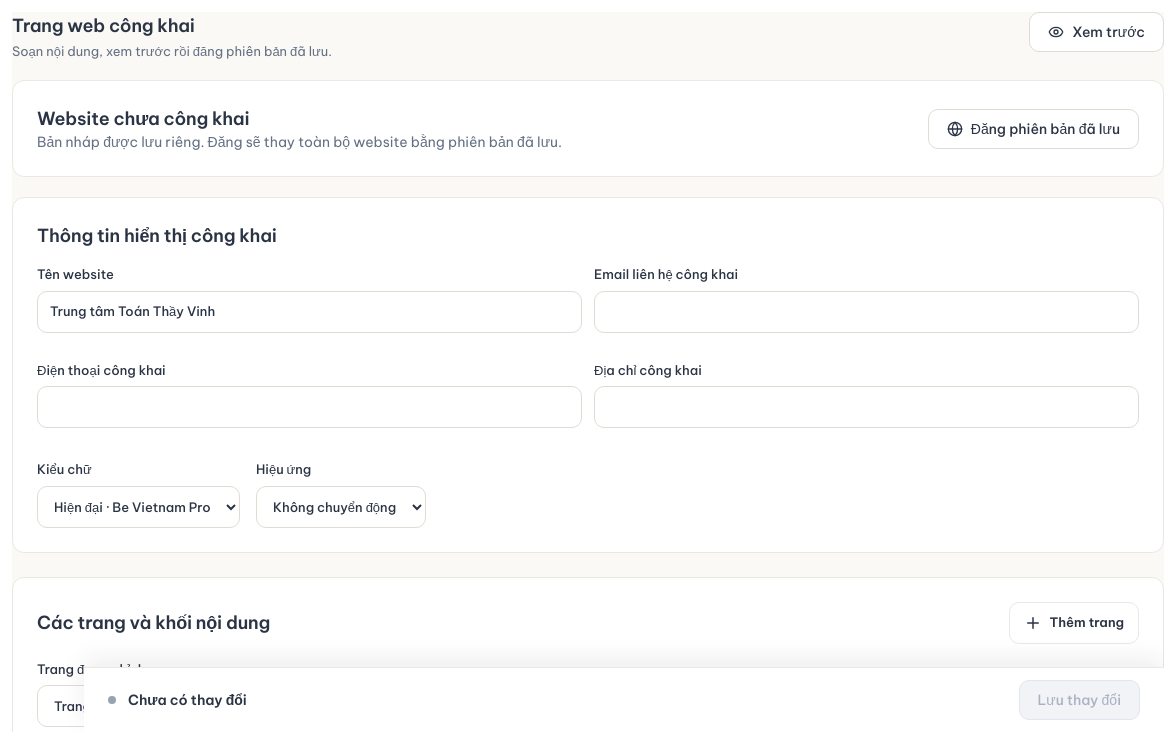
Test: names the changed website parts and Hủy restores the first saved page
Replace the text in the field labelled "Tên website" with "Toán Thầy Vinh · Cơ sở 2" at (310,312), box [37,290,582,332]
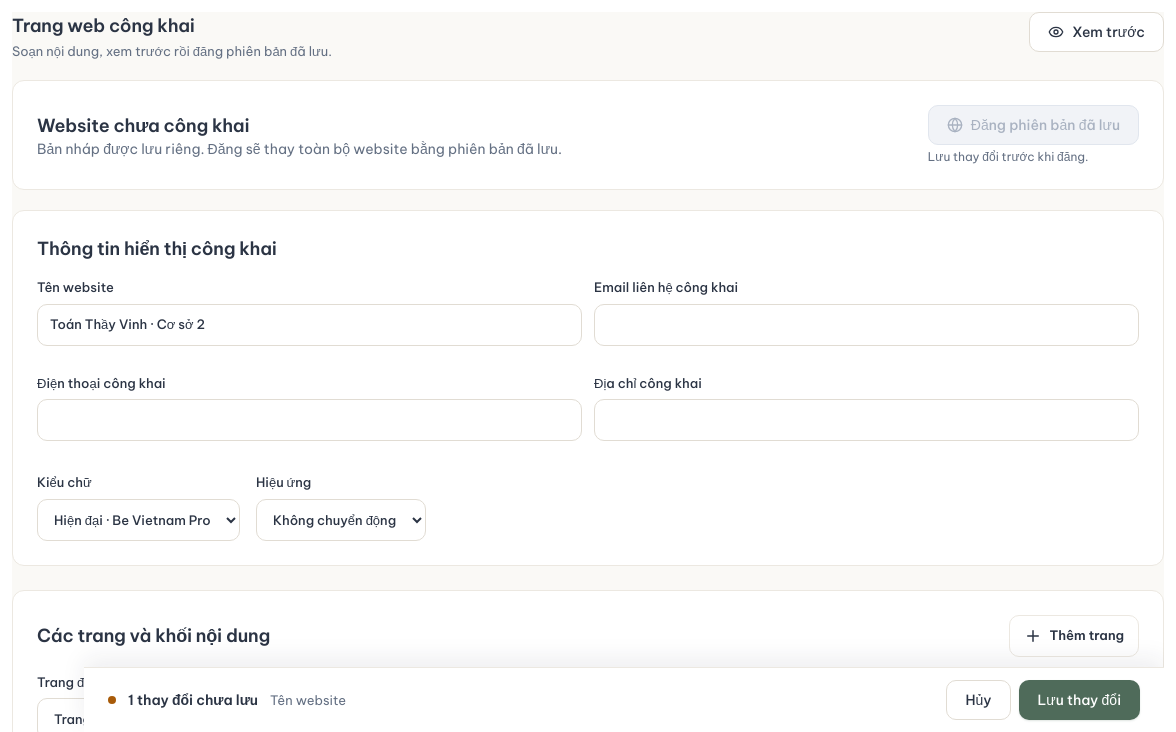
Click the button "Thêm trang" at (1074,636), box [1009,614,1139,656]
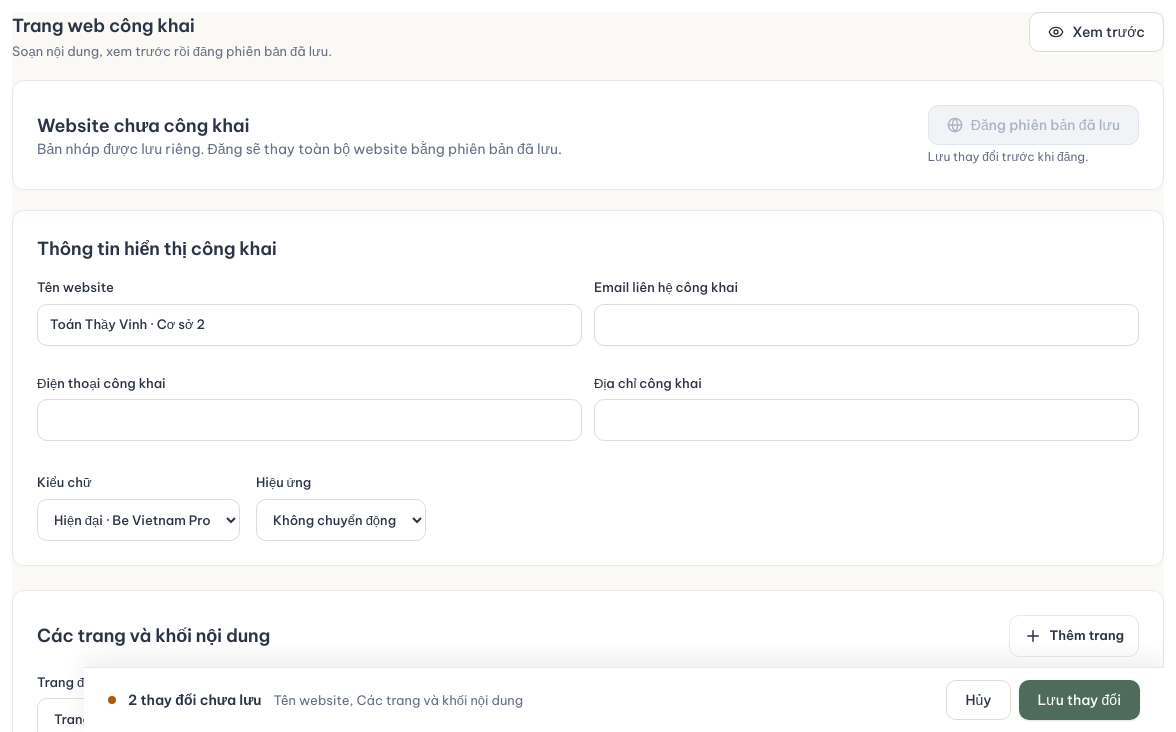
expect the element named "Thanh lưu thay đổi" shows "2 thay đổi chưa lưu": met, box [128,691,261,709]
expect the element named "Thanh lưu thay đổi" shows "Tên website, Các trang và khối nội dung": met, box [273,692,523,708]
Click the button "Hủy" at (979,700), box [946,680,1011,720]
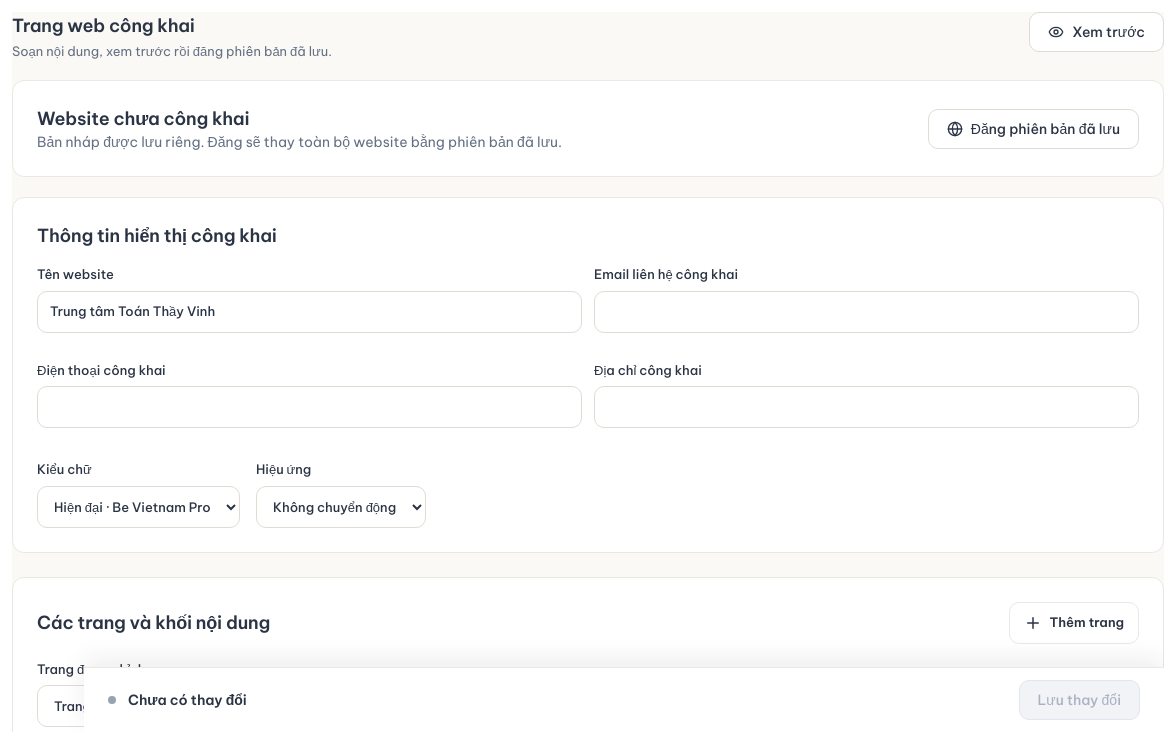
expect the field labelled "Tên website" holds "Trung tâm Toán Thầy Vinh": met, box [37,290,582,332]
expect the dropdown labelled "Trang đang chỉnh" shows "Trang chủ": met, box [37,685,1139,727]
expect the element named "Thanh lưu thay đổi" shows "Chưa có thay đổi": met, box [128,691,247,709]
